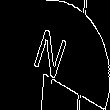N_SW: (34, 24, 76, 86)
